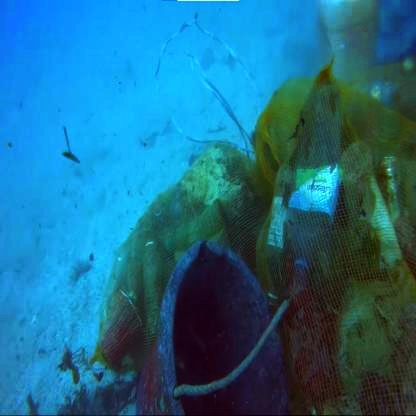plastic: (134, 231, 289, 416), (281, 163, 344, 247), (373, 154, 416, 206)
